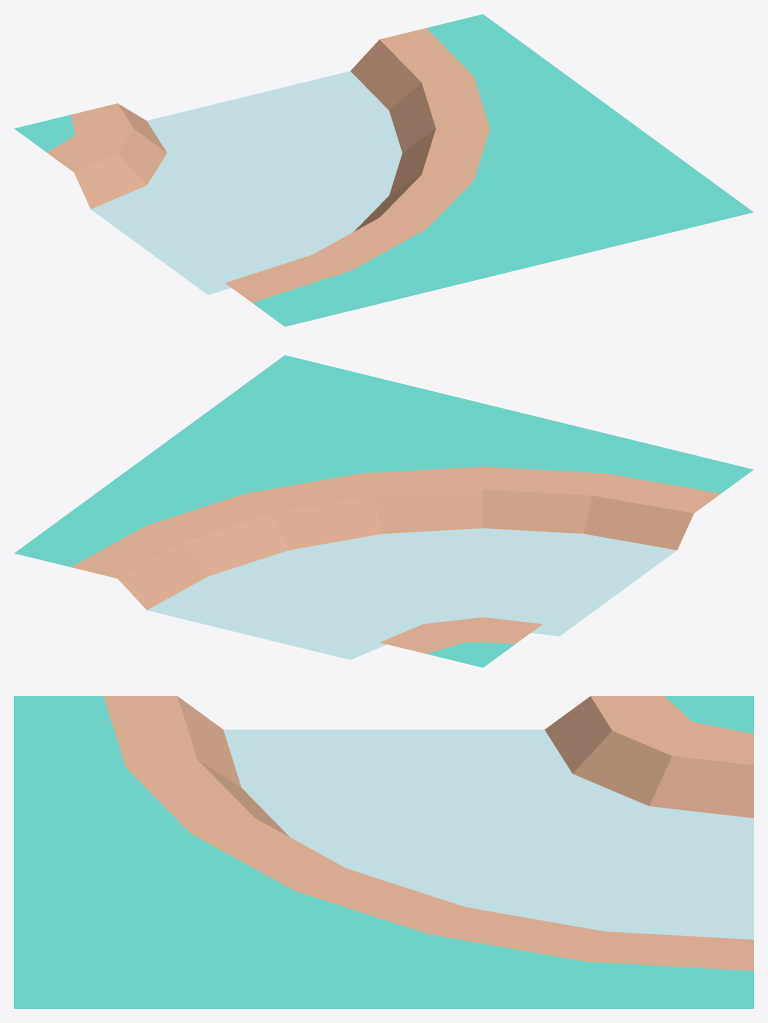
File: ground_riverBend.gltf
3 views of the same model, one above another, from view 1: azimuth 30°, elevation 25°; view 2: azimuth 150°, elevation 25°; view 3: azimuth 270°, elevation 25° (orthographic). The views are drawn at different scales.
Visible parts, largest first — view 1: ground_riverBend; view 2: ground_riverBend; view 3: ground_riverBend.
Boxes of the visible parts, box(x1,y1,x2,y2) form: ground_riverBend: box(14, 14, 753, 326); ground_riverBend: box(14, 355, 753, 667); ground_riverBend: box(14, 696, 753, 1008).
Size of the model in its own units: 1 by 0.05 by 1.
